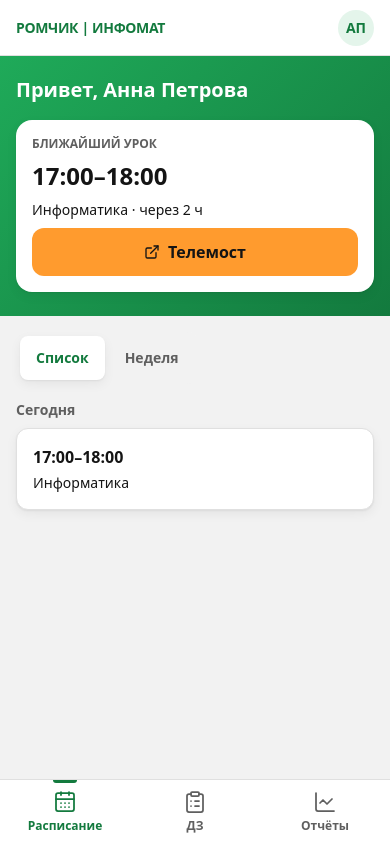
Расписание ученика: неделя и карточка › тап по уроку открывает карточку со ссылками
Click the link "17:00–18:00 Информатика": click(78, 457) [16, 428, 374, 510]
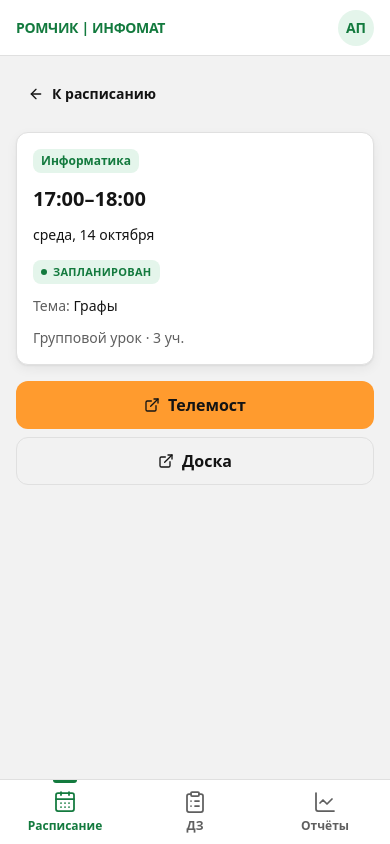
Expected: the link "Телемост" is shown, [16, 381, 374, 429]
Expected: the heading "17:00–18:00" is shown, [33, 185, 146, 212]
Expected: the text "Графы" is shown, [73, 296, 118, 315]
